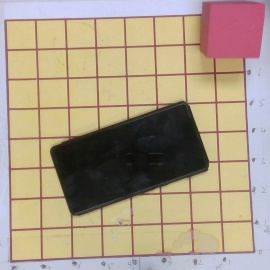phone: (49, 99, 210, 217)
